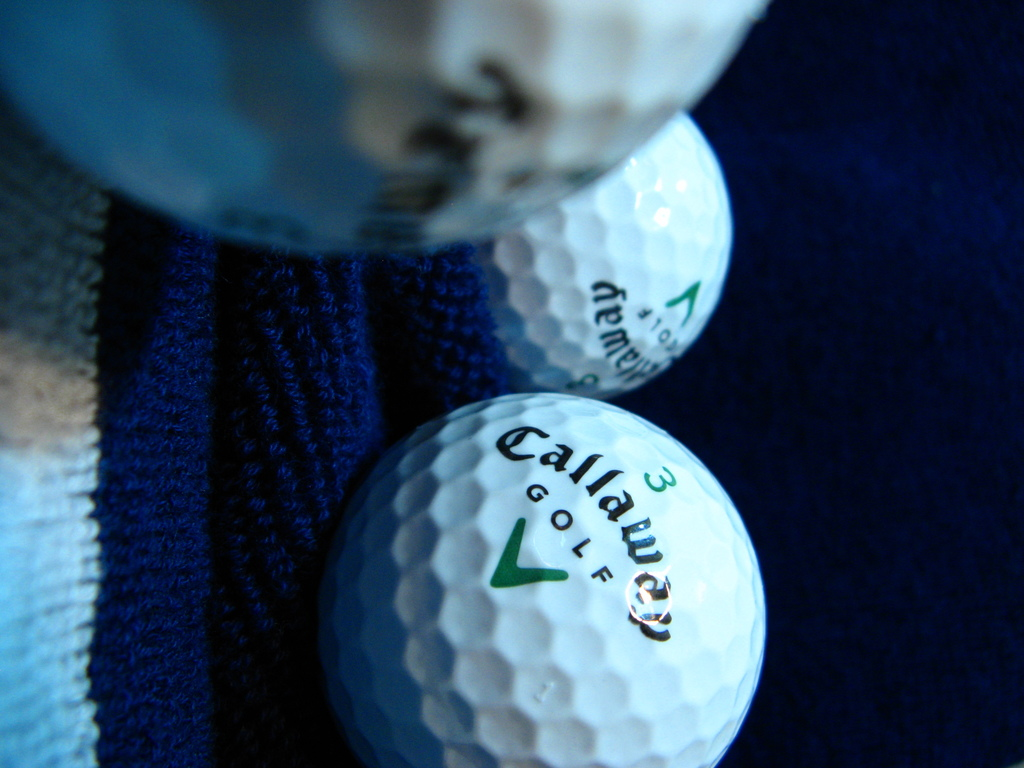Ball: (0, 2, 776, 252), (314, 395, 770, 765), (479, 113, 733, 396)
